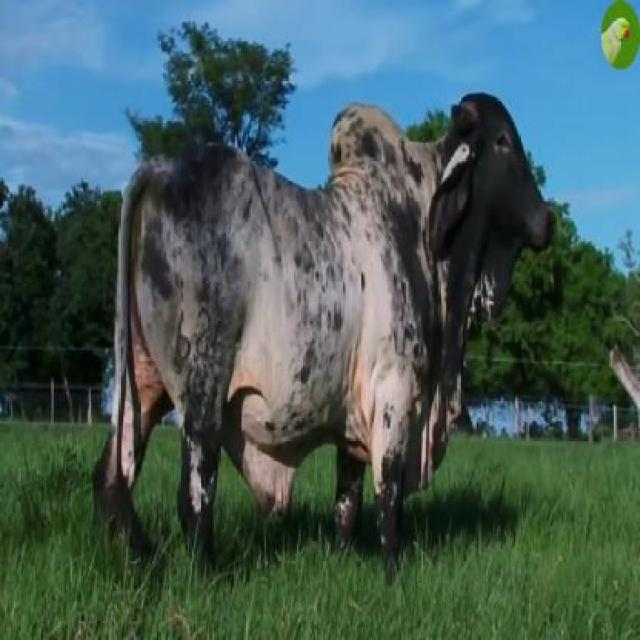Cow: (92, 90, 554, 564)
